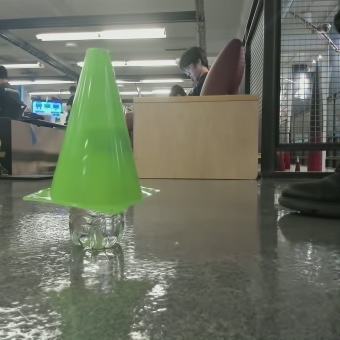Cone: (49, 47, 140, 199)
